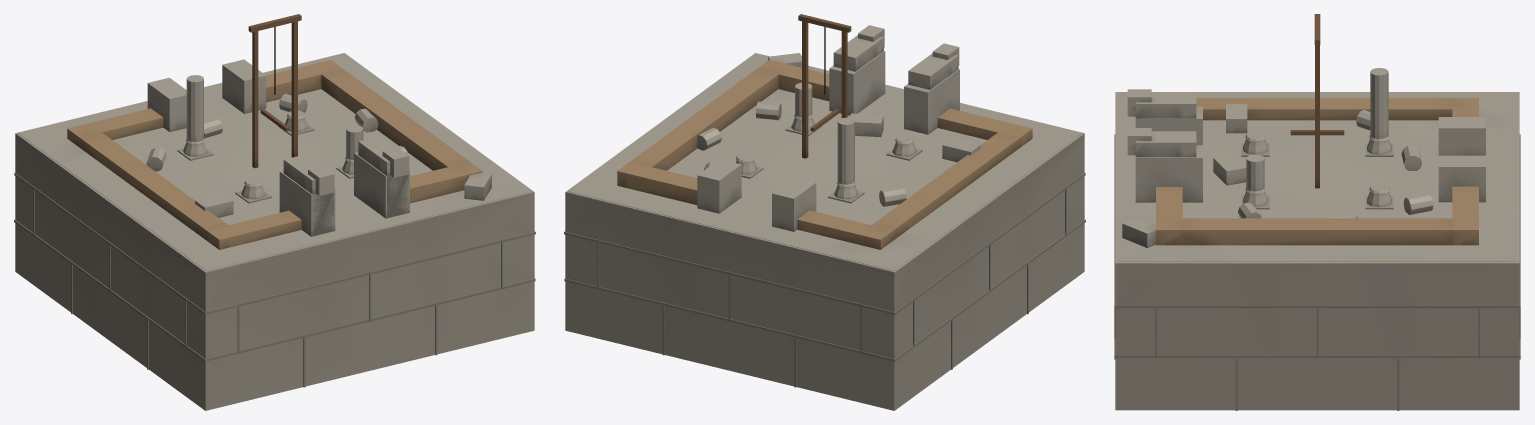
The model's file is unfinished-gate.glb.
The picture shows the model from 3 angles, left to right: view 1: azimuth 30°, elevation 25°; view 2: azimuth 150°, elevation 25°; view 3: azimuth 270°, elevation 25°; orthographic projection. The views are drawn at different scales.
Visible parts, largest first — view 1: p0_terrace, p1_walls; view 2: p0_terrace, p1_walls; view 3: p0_terrace, p1_walls.
Part boxes in pixels (box(x1,y1,x2,y2)): p0_terrace: box(14, 53, 535, 410); p1_walls: box(67, 14, 491, 249); p0_terrace: box(564, 53, 1085, 410); p1_walls: box(617, 14, 1032, 249); p0_terrace: box(1114, 92, 1520, 410); p1_walls: box(1122, 14, 1485, 247).
Size of the model in its own units: 30.16 by 24.41 by 30.16.
